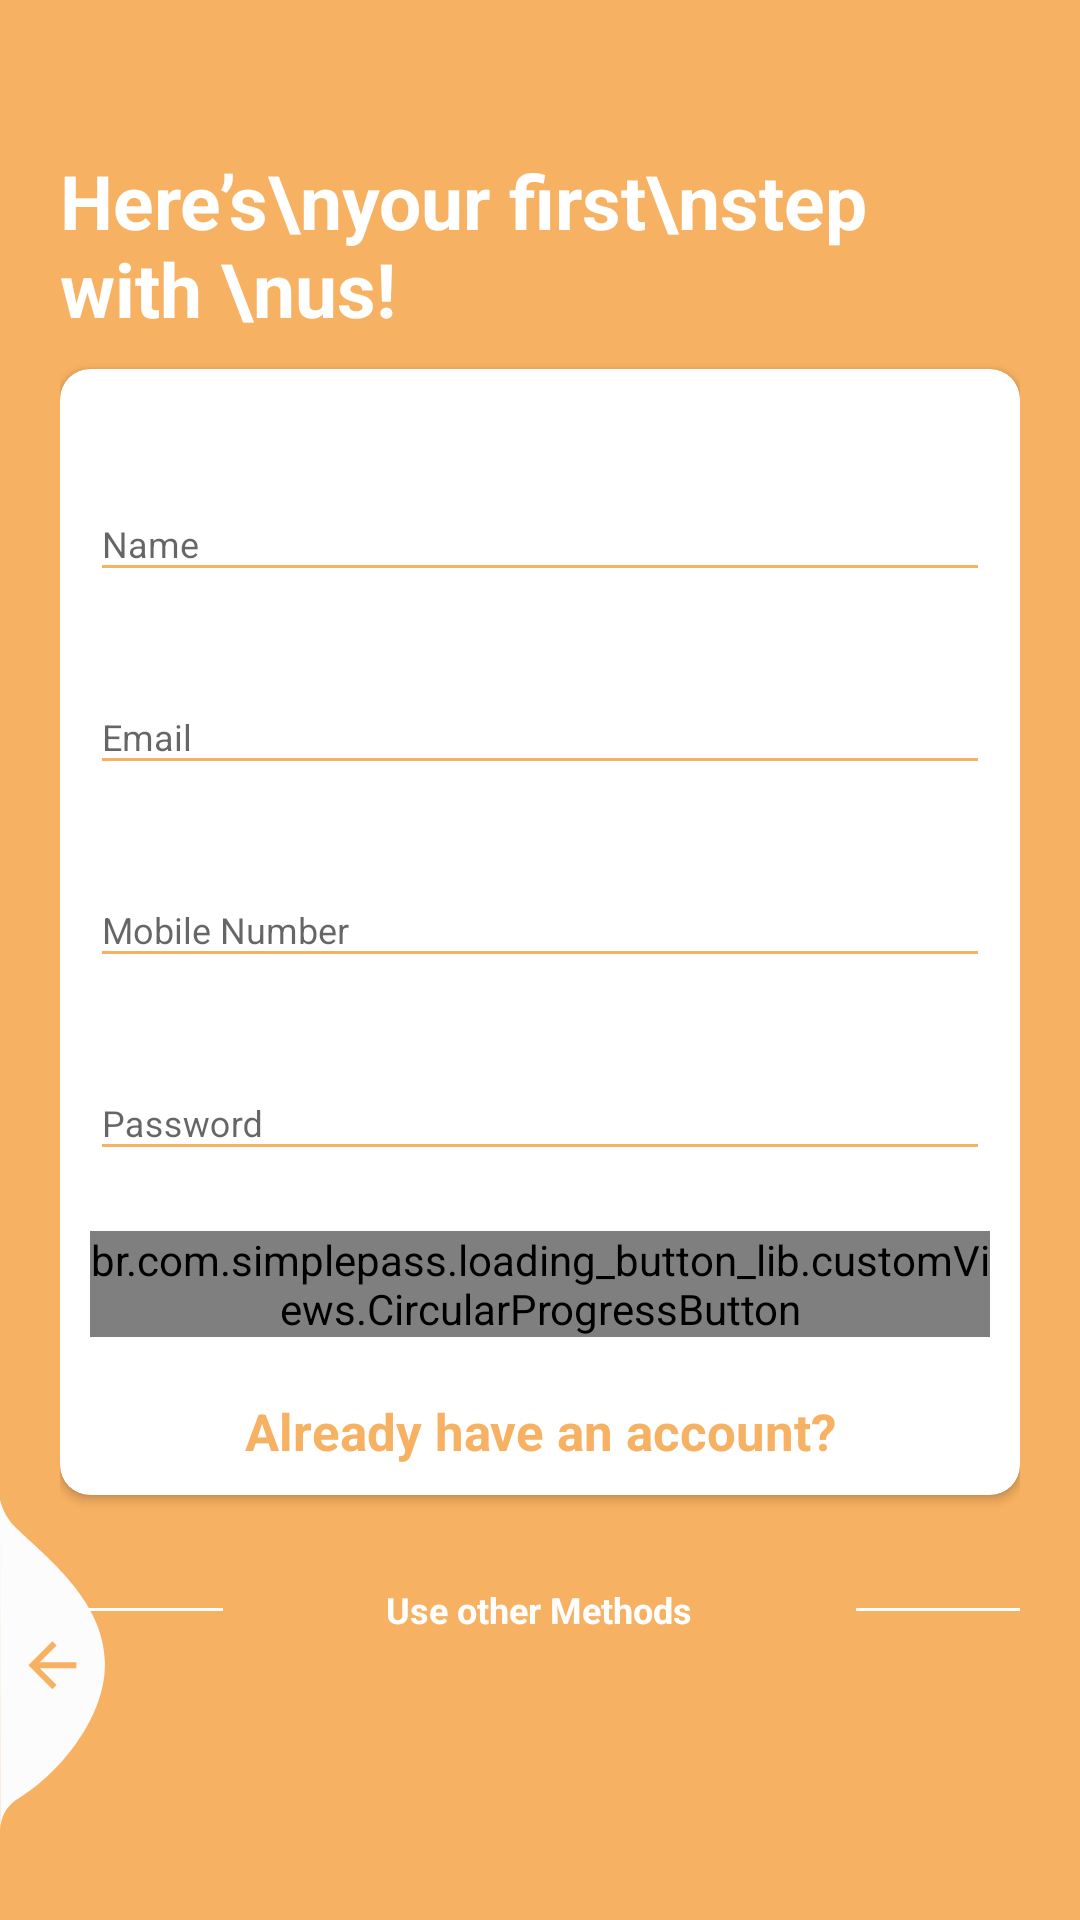

Icons on this 1080 × 1920 Android screen, each with its box as detection(x1, y1, x2, y2):
back: detection(0, 1500, 105, 1828)
